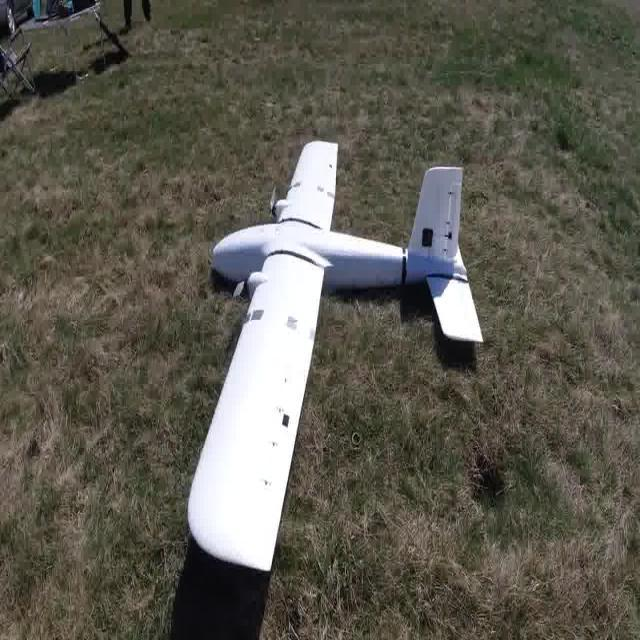iha: (175, 132, 476, 584)
